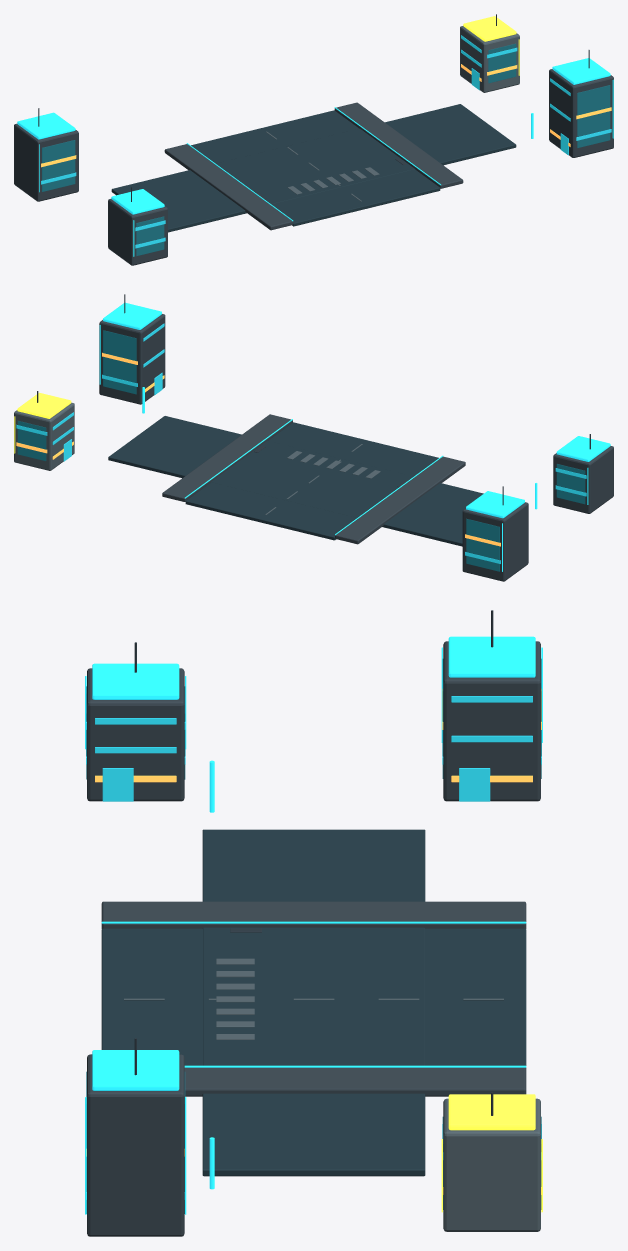
Rendered from crossroads_lod1.glb.
The picture shows the model from 3 angles, top to bottom: view 1: azimuth 30°, elevation 25°; view 2: azimuth 150°, elevation 25°; view 3: azimuth 270°, elevation 25°; orthographic projection. The views are drawn at different scales.
Parts seen in each view (by area): view 1: ND_Batch_ND_WetAsphalt, ND_Batch_ND_CityConcrete, ND_Batch_ND_RoadEdge, ND_Batch_ND_DarkGlass, ND_Batch_ND_CityCyanMuted, ND_Batch_ND_CityConcreteLight, ND_Batch_ND_NeonGlass, ND_Batch_ND_PackageGold, ND_Batch_ND_WarmWindow; view 2: ND_Batch_ND_WetAsphalt, ND_Batch_ND_CityConcrete, ND_Batch_ND_RoadEdge, ND_Batch_ND_DarkGlass, ND_Batch_ND_CityCyanMuted, ND_Batch_ND_CityConcreteLight, ND_Batch_ND_NeonGlass, ND_Batch_ND_PackageGold, ND_Batch_ND_WarmWindow; view 3: ND_Batch_ND_WetAsphalt, ND_Batch_ND_CityConcrete, ND_Batch_ND_RoadEdge, ND_Batch_ND_CityCyanMuted, ND_Batch_ND_CityConcreteLight, ND_Batch_ND_NeonGlass, ND_Batch_ND_PackageGold, ND_Batch_ND_DarkGlass, ND_Batch_ND_WarmWindow.
Part boxes in pixels (bbox=[...]): ND_Batch_ND_WetAsphalt: bbox=[111, 104, 516, 232]; ND_Batch_ND_CityConcrete: bbox=[14, 69, 613, 265]; ND_Batch_ND_RoadEdge: bbox=[164, 102, 463, 230]; ND_Batch_ND_DarkGlass: bbox=[42, 43, 610, 256]; ND_Batch_ND_CityCyanMuted: bbox=[17, 58, 613, 256]; ND_Batch_ND_CityConcreteLight: bbox=[266, 26, 519, 201]; ND_Batch_ND_NeonGlass: bbox=[41, 35, 611, 248]; ND_Batch_ND_PackageGold: bbox=[463, 16, 519, 75]; ND_Batch_ND_WarmWindow: bbox=[41, 64, 611, 167]; ND_Batch_ND_WetAsphalt: bbox=[108, 416, 483, 546]; ND_Batch_ND_CityConcrete: bbox=[99, 314, 613, 581]; ND_Batch_ND_RoadEdge: bbox=[162, 414, 465, 544]; ND_Batch_ND_DarkGlass: bbox=[17, 330, 585, 571]; ND_Batch_ND_CityCyanMuted: bbox=[99, 302, 610, 571]; ND_Batch_ND_CityConcreteLight: bbox=[14, 402, 380, 514]; ND_Batch_ND_NeonGlass: bbox=[16, 323, 586, 563]; ND_Batch_ND_PackageGold: bbox=[14, 392, 71, 453]; ND_Batch_ND_WarmWindow: bbox=[16, 352, 500, 546]; ND_Batch_ND_WetAsphalt: bbox=[101, 829, 526, 1176]; ND_Batch_ND_CityConcrete: bbox=[87, 641, 540, 1236]; ND_Batch_ND_RoadEdge: bbox=[101, 901, 526, 1096]; ND_Batch_ND_CityCyanMuted: bbox=[85, 636, 542, 1214]; ND_Batch_ND_CityConcreteLight: bbox=[124, 958, 540, 1231]; ND_Batch_ND_NeonGlass: bbox=[86, 694, 541, 1199]; ND_Batch_ND_PackageGold: bbox=[441, 1094, 542, 1212]; ND_Batch_ND_DarkGlass: bbox=[86, 658, 541, 1213]; ND_Batch_ND_WarmWindow: bbox=[86, 689, 541, 1194].
Size of the model in its own units: 53.1 by 10.03 by 21.58.
